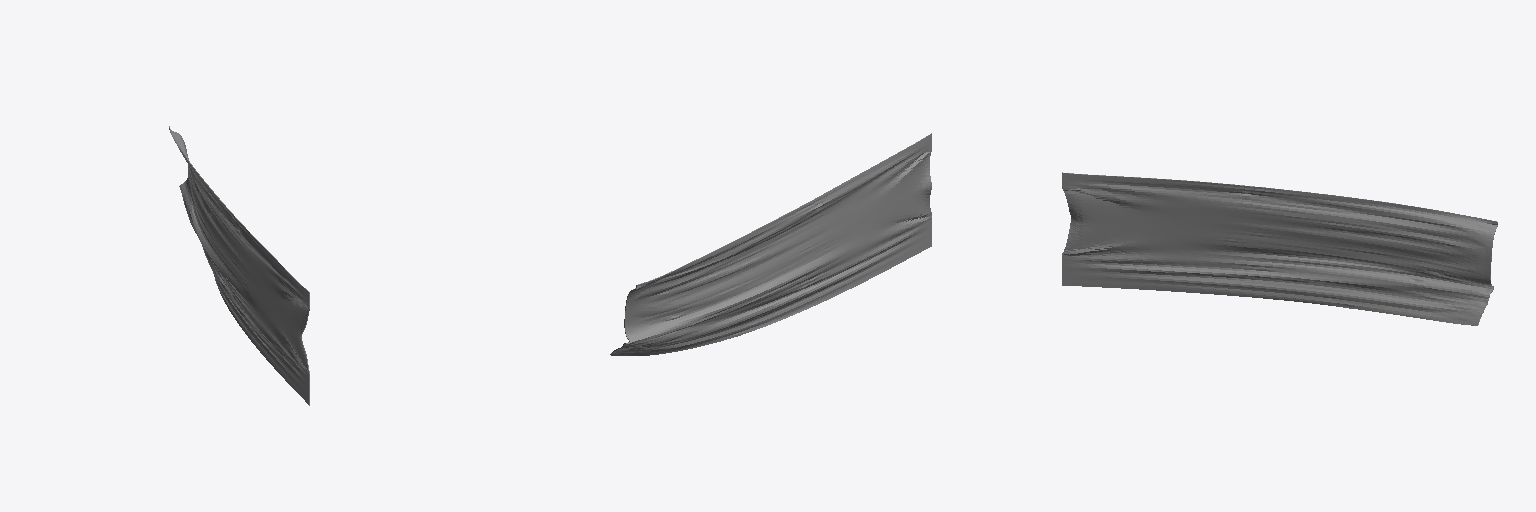
File: banner.obj
The picture shows the model from 3 angles: view 1: azimuth 30°, elevation 25°; view 2: azimuth 150°, elevation 25°; view 3: azimuth 270°, elevation 25°; orthographic projection.
Visible parts, largest first — view 1: sponza_04; view 2: sponza_04; view 3: sponza_04.
Part boxes in pixels (x1,y1,x2,y2): sponza_04: (169, 126, 309, 405); sponza_04: (610, 133, 931, 355); sponza_04: (1062, 172, 1497, 325).
Bounding box in the file's own units: 313 × 285 × 995.